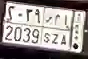0: (14, 12, 23, 41)
2: (4, 5, 15, 41)
3: (23, 8, 33, 43)
9: (31, 8, 41, 44)
A: (60, 14, 69, 46)
S: (43, 16, 53, 43)
Z: (51, 13, 61, 45)
